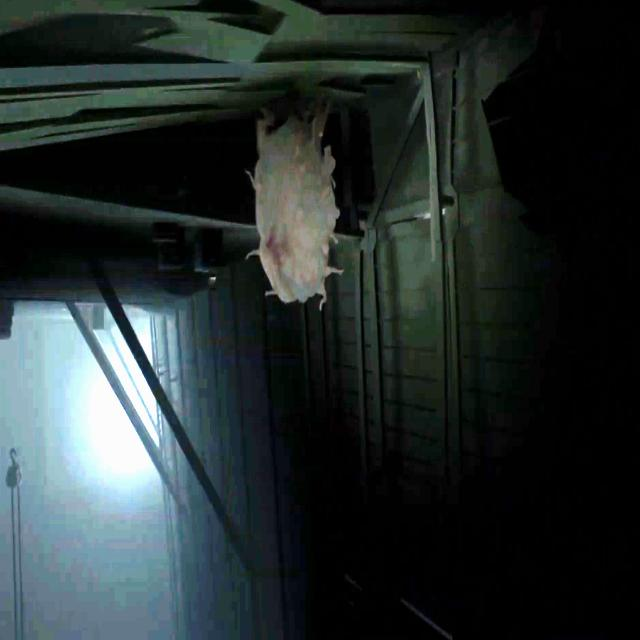blob: (248, 110, 340, 311)
